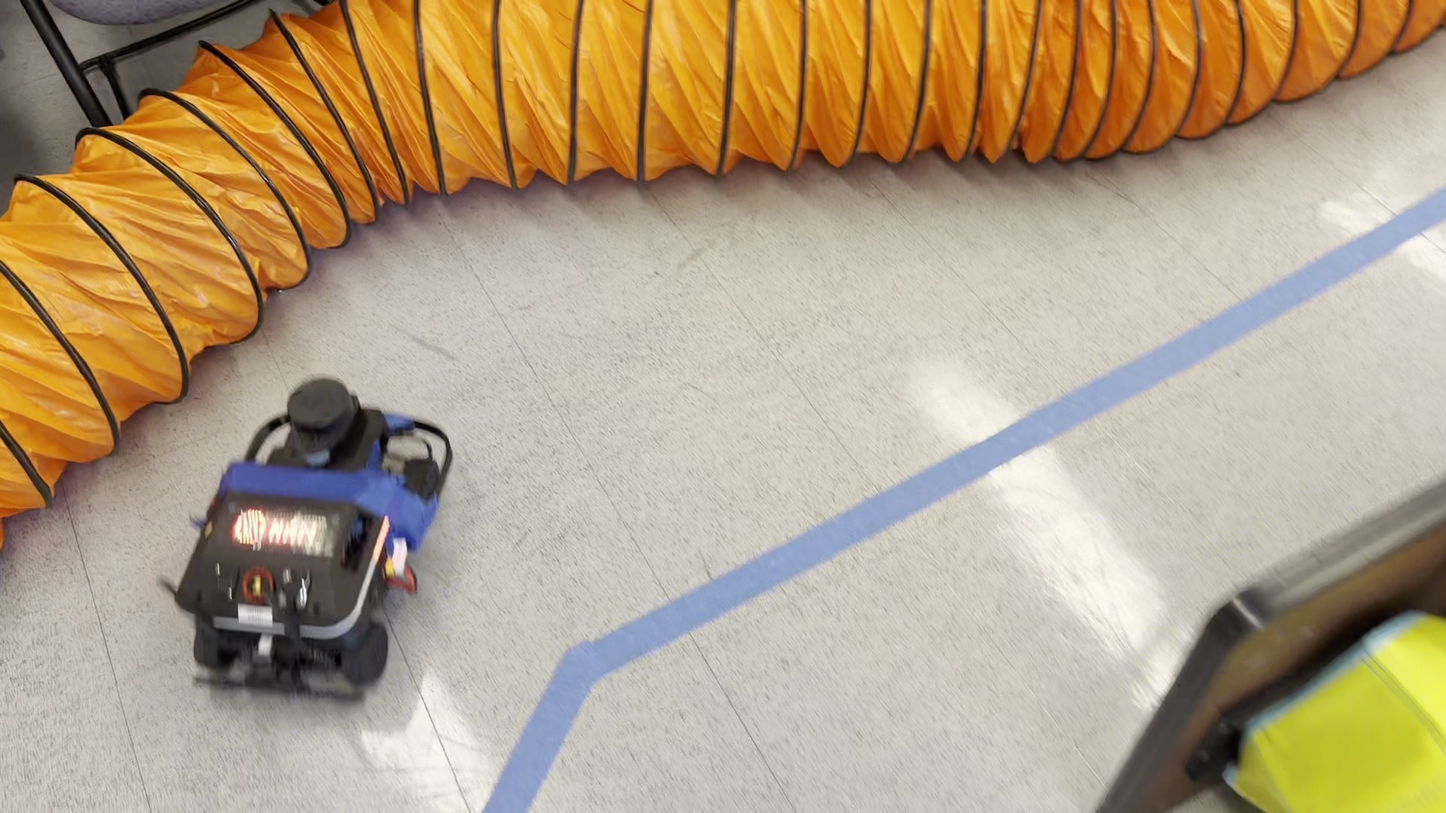racecar: (166, 378, 452, 696)
